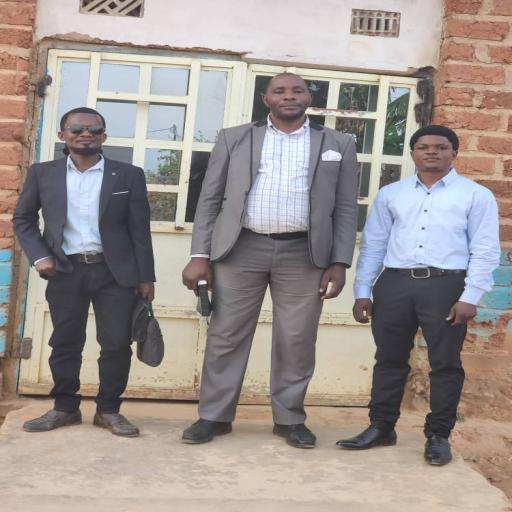MATTHIEU: (53, 105, 111, 170)
